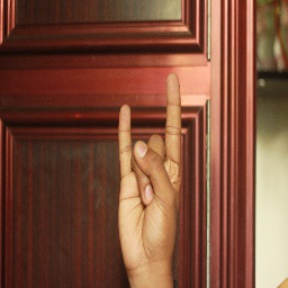V: (110, 71, 190, 265)
